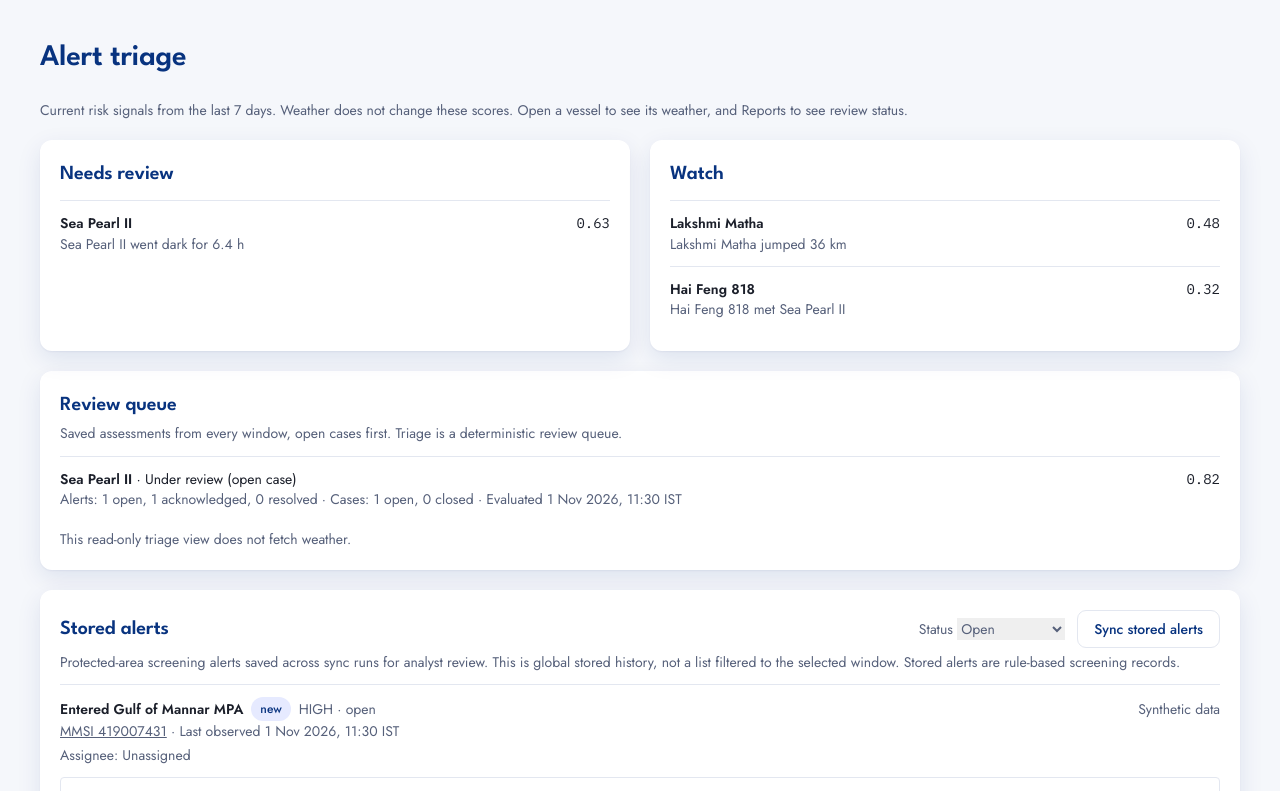
Test case: stored alert lifecycle and triage › syncs the rolling selection and labels the stored list as global
Click the button "Sync stored alerts" at point(1149, 629), box [1077,610,1220,648]
(page scrolled)
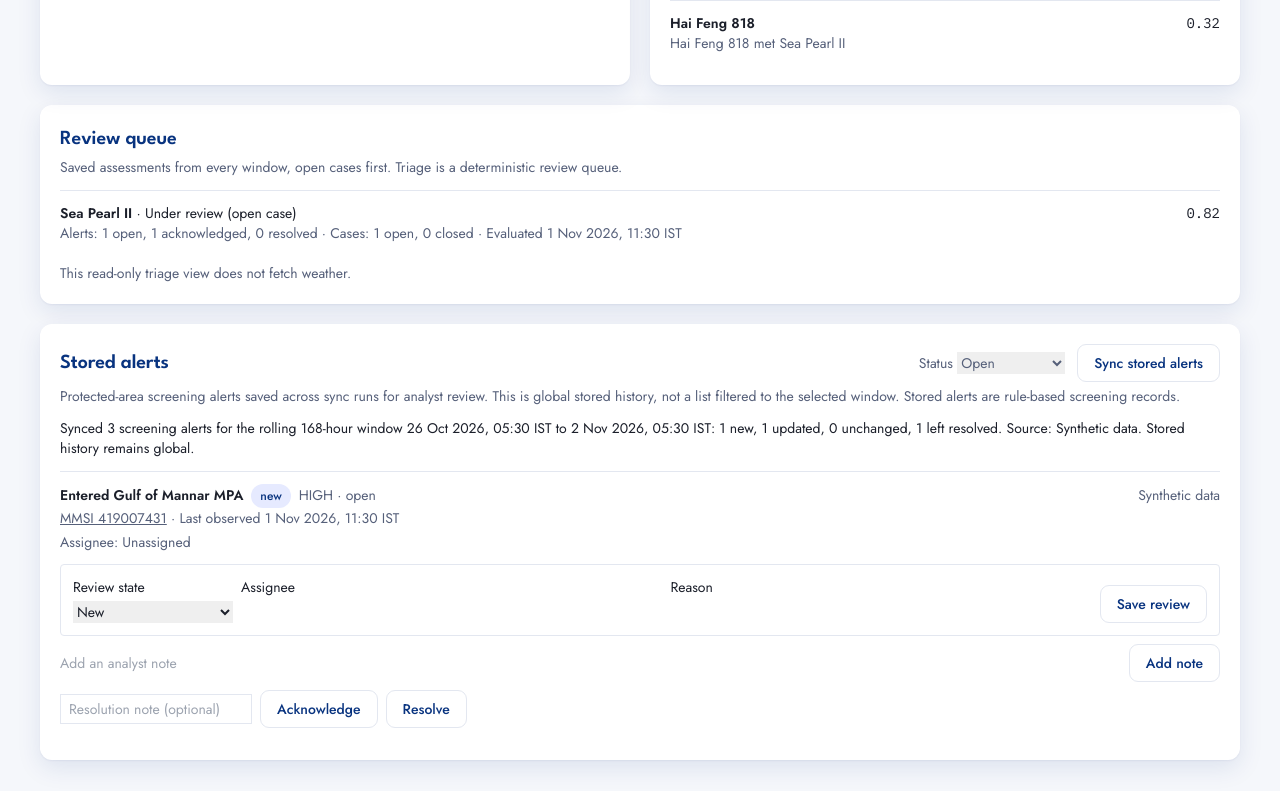
Expected: the element "Stored alerts" shows "global stored history, not a list filtered to the selected window", [60,386,904,406]
Result: the message shows "Synced 3 screening alerts for the rolling 168-hour window 26 Oct 2026, 05:30 IST to 2 Nov 2026, 05:30 IST: 1 new, 1 updated, 0 unchanged, 1 left resolved. Sourc" at [60,418,1185,458]
